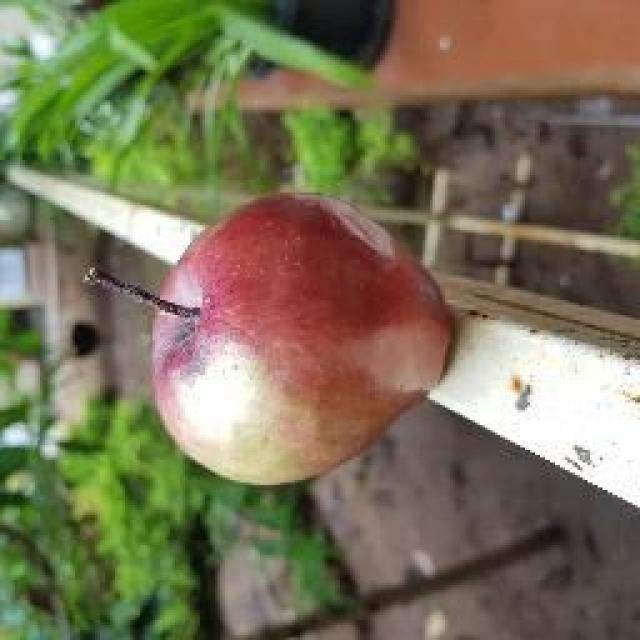Good_Apple: (145, 195, 458, 490)
